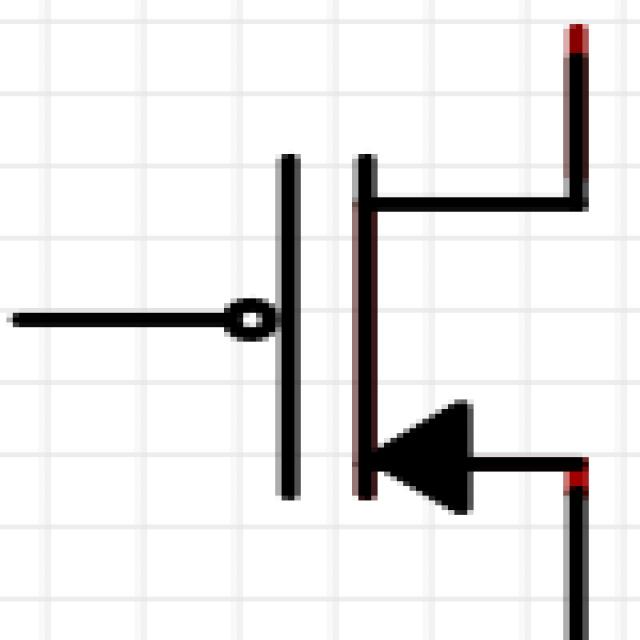pmos: (25, 43, 640, 611)
